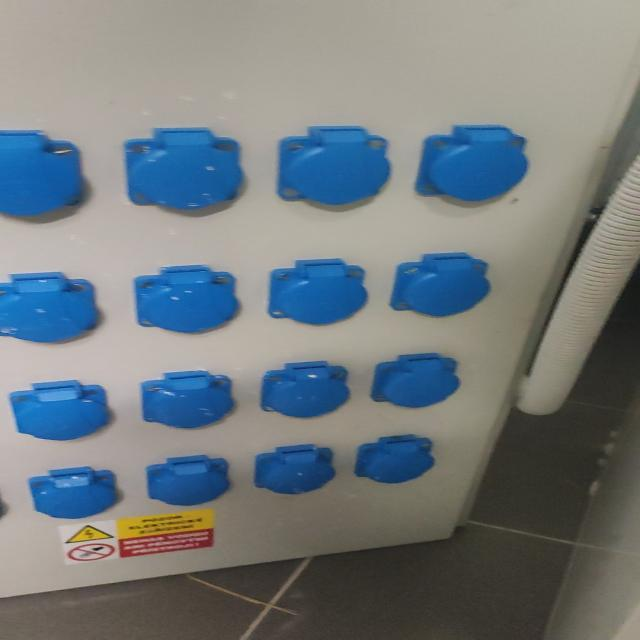house plug covered: (121, 127, 248, 220), (274, 126, 393, 214), (414, 125, 530, 208), (0, 130, 90, 224), (0, 272, 103, 346), (132, 265, 238, 336), (270, 260, 367, 327), (138, 371, 235, 430), (397, 255, 488, 317), (17, 381, 108, 441), (261, 363, 350, 420), (27, 467, 115, 519), (145, 455, 230, 506), (379, 355, 457, 408), (354, 434, 436, 484), (257, 449, 333, 496)
